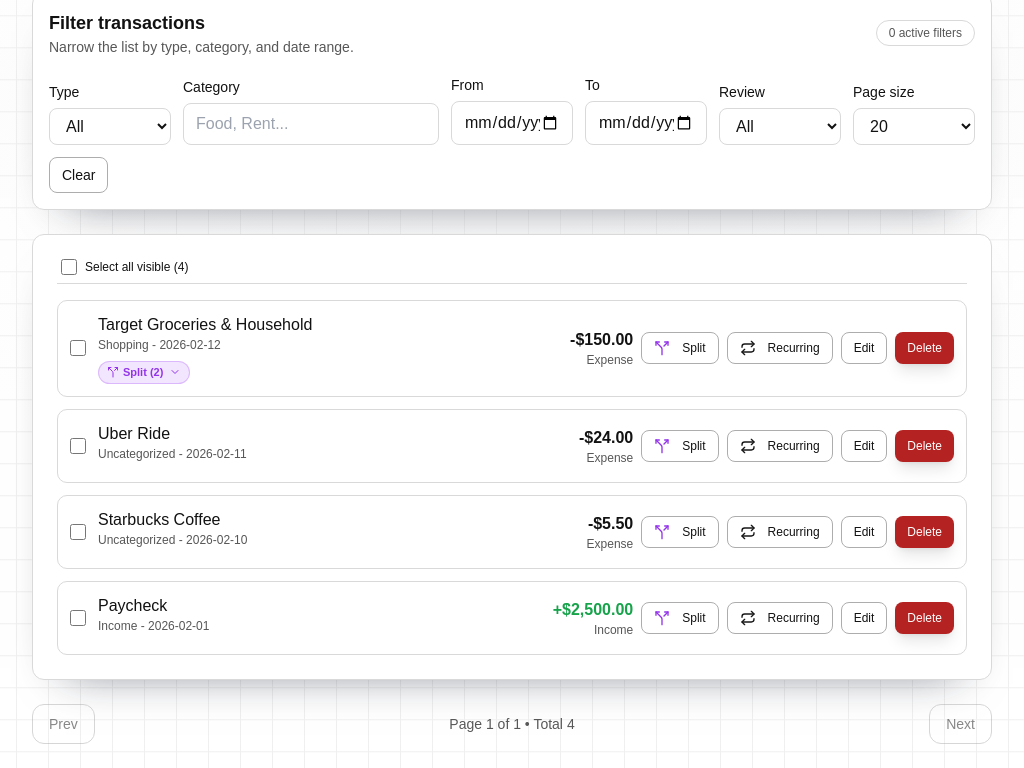
Test case: selects individual transactions and shows the batch actions bar
(page scrolled)
Expected: the text "Starbucks Coffee" is shown, [98,510,220,528]
Select Starbucks
Click the checkbox named "Select transaction Starbucks Coffee": (78, 532) [70,524,86,540]
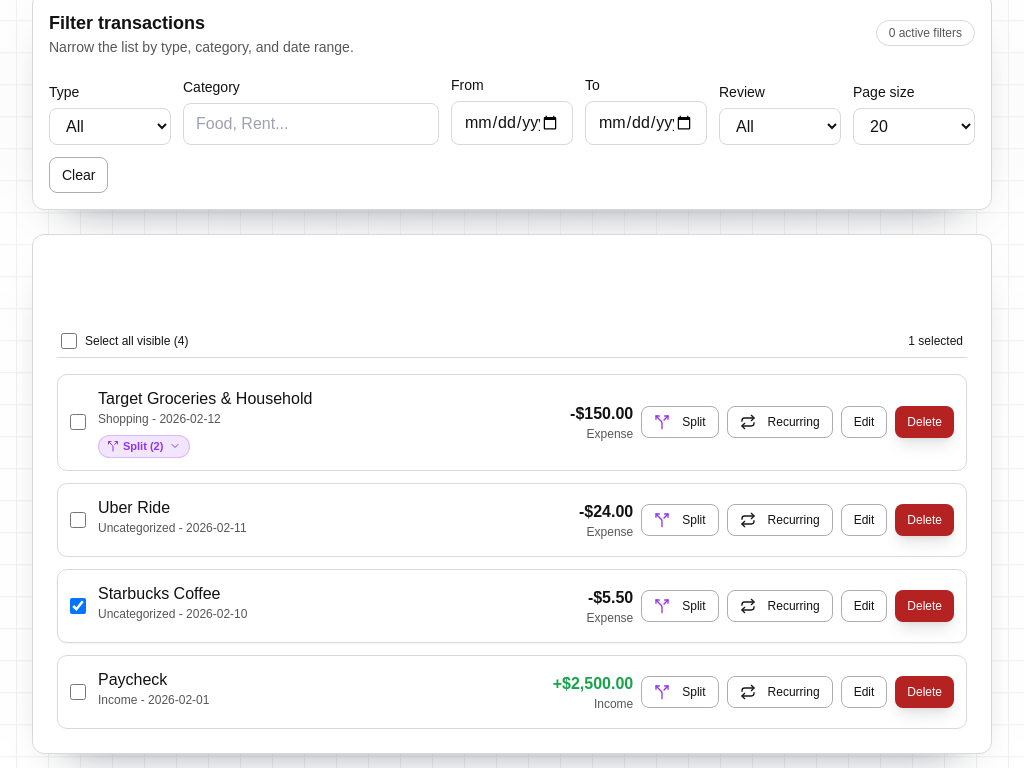
Select Uber
Click the checkbox named "Select transaction Uber Ride": (78, 520) [70,512,86,528]
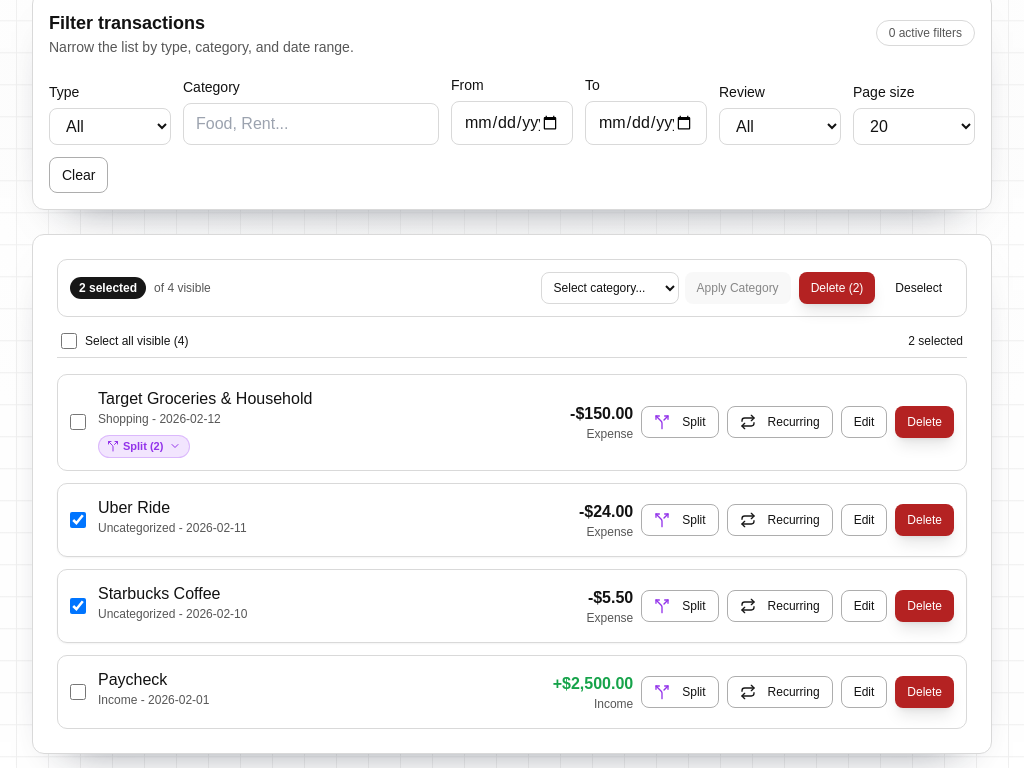
Result: the 1st text "2 selected" is shown at [70,277,146,299]
